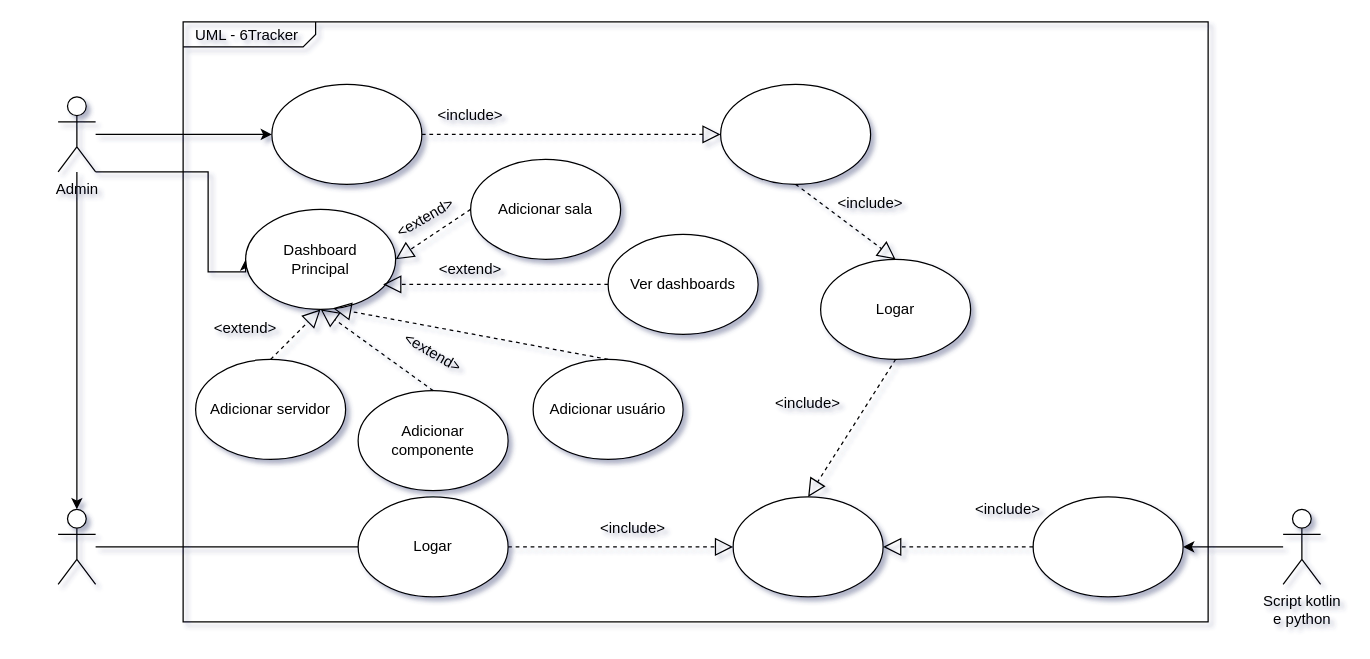
Some shapes in this 1370 by 659 pixel diagram are drawn without their labels. The centre of each missing label's shape, as x and y in pixels:
Acessar o sistema: [346,133]
Analista (Clinger Silvério): [76,546]
Cadastrar: [795,133]
Capturar dados: [1107,546]
Área do usuário (Dashboard): [807,546]
